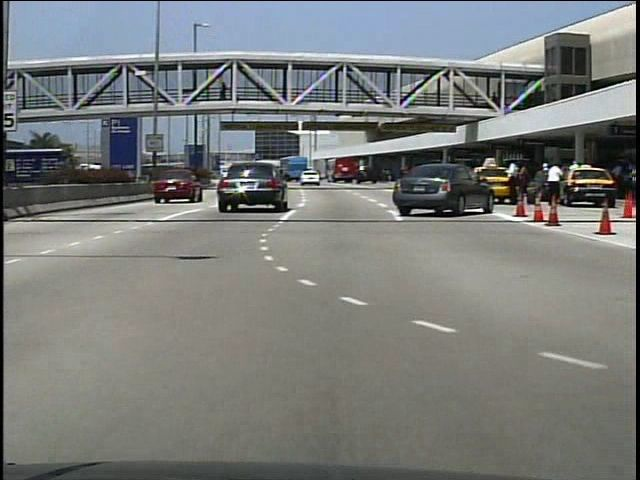person: (541, 158, 564, 207), (502, 159, 521, 206), (538, 159, 556, 204), (219, 82, 230, 105)
